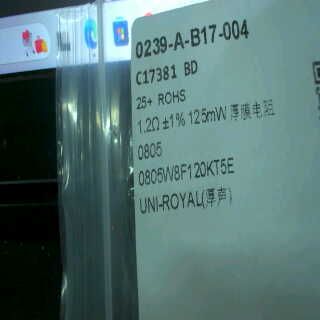1.2R: (135, 117, 162, 164)
